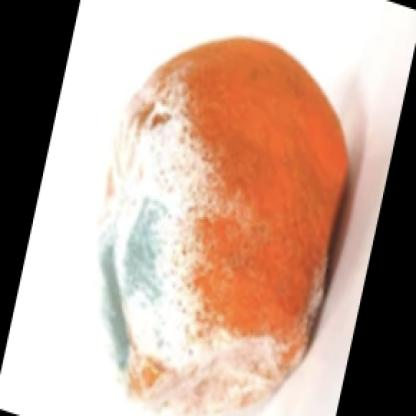rotten: (98, 36, 355, 416)
